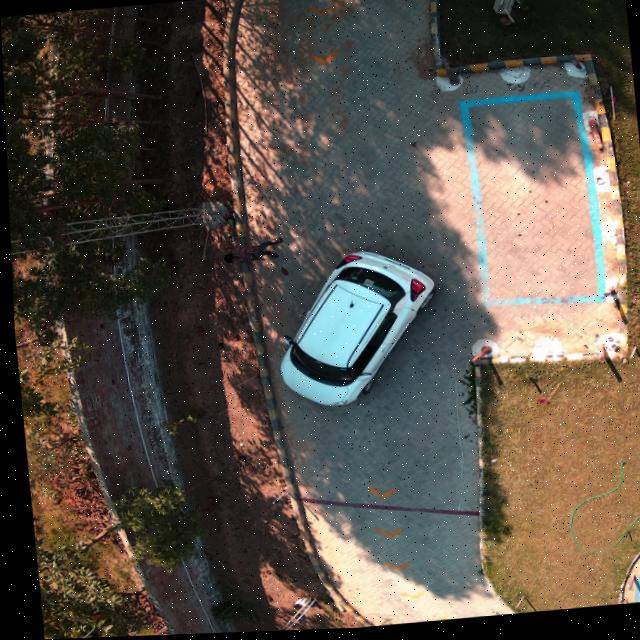car: (276, 253, 432, 408)
